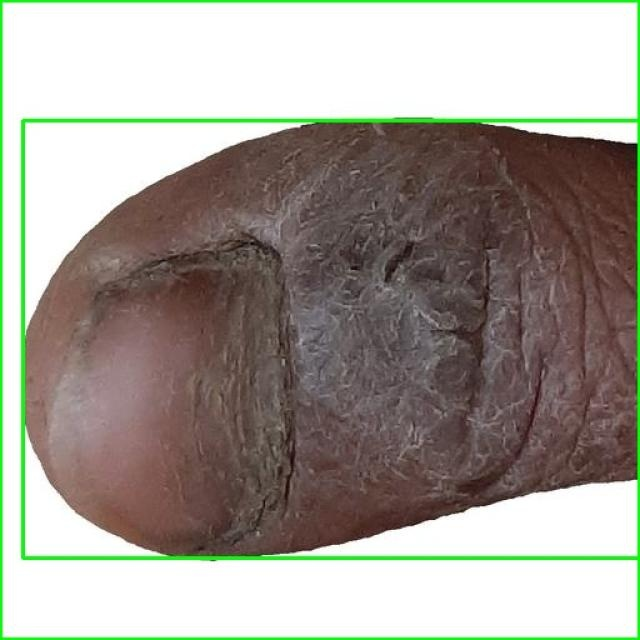Contact Dermatitis: (0, 0, 639, 639), (22, 120, 639, 558)
